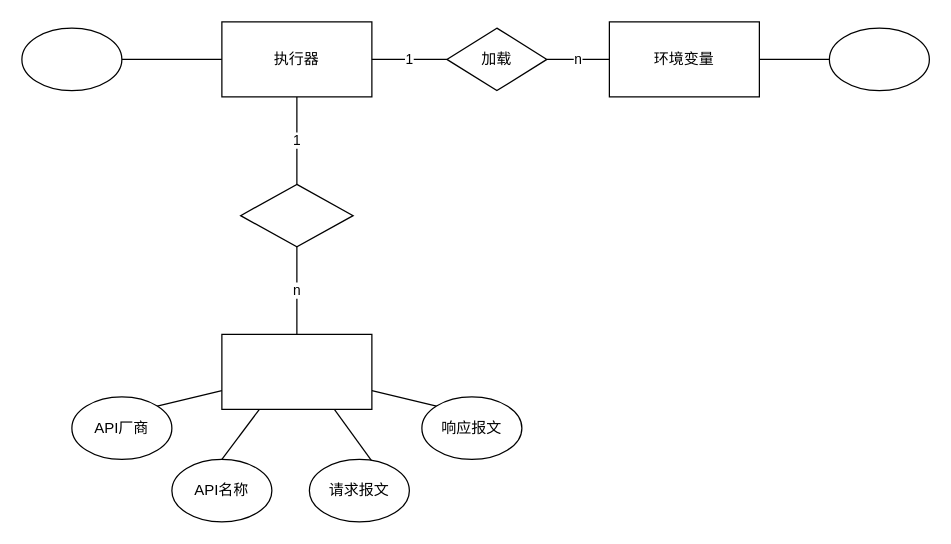
This 951x544 diagram has some shape labels left out. The shapes that lost their labels are listed below. From the top down, each one's centre as x and y in pixels, then its label:
point 71,59: 执行器类型
point 878,59: 鉴权信息
point 296,215: 调用
point 296,371: 第三方API
